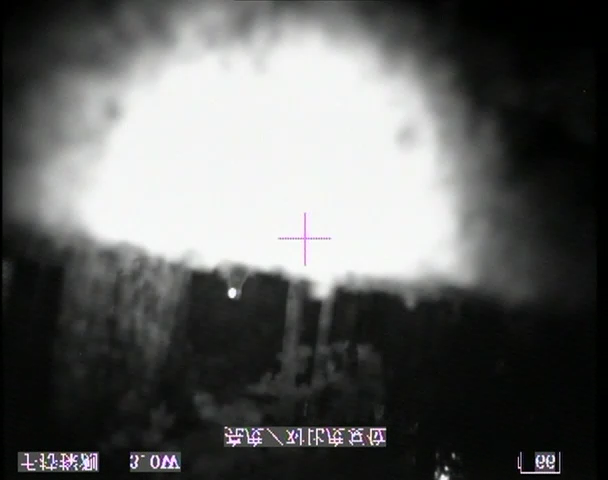my: (227, 286, 237, 299)
